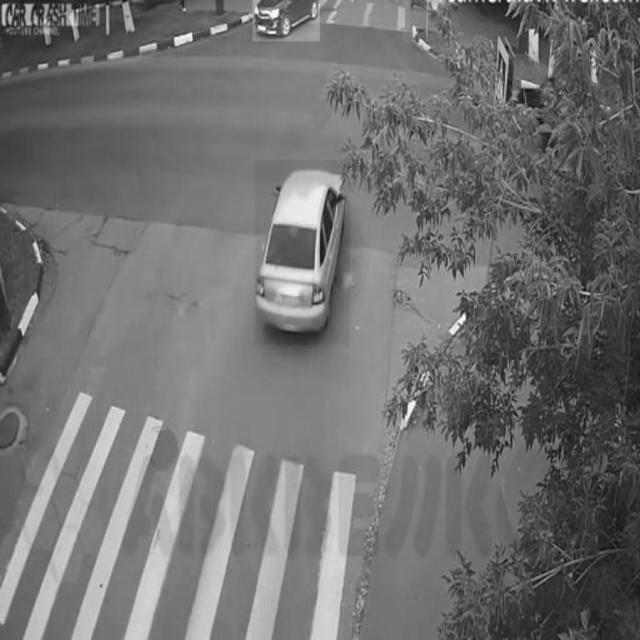vehicle: (256, 160, 350, 345), (253, 0, 320, 41)
